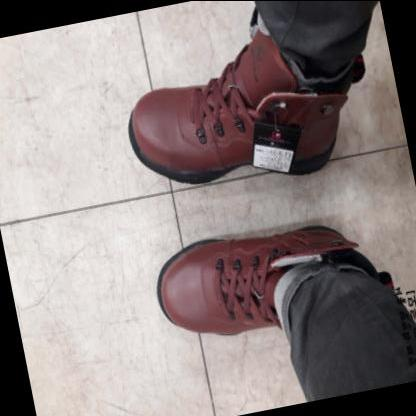safety-shoe: (119, 0, 357, 223), (137, 170, 390, 371)
